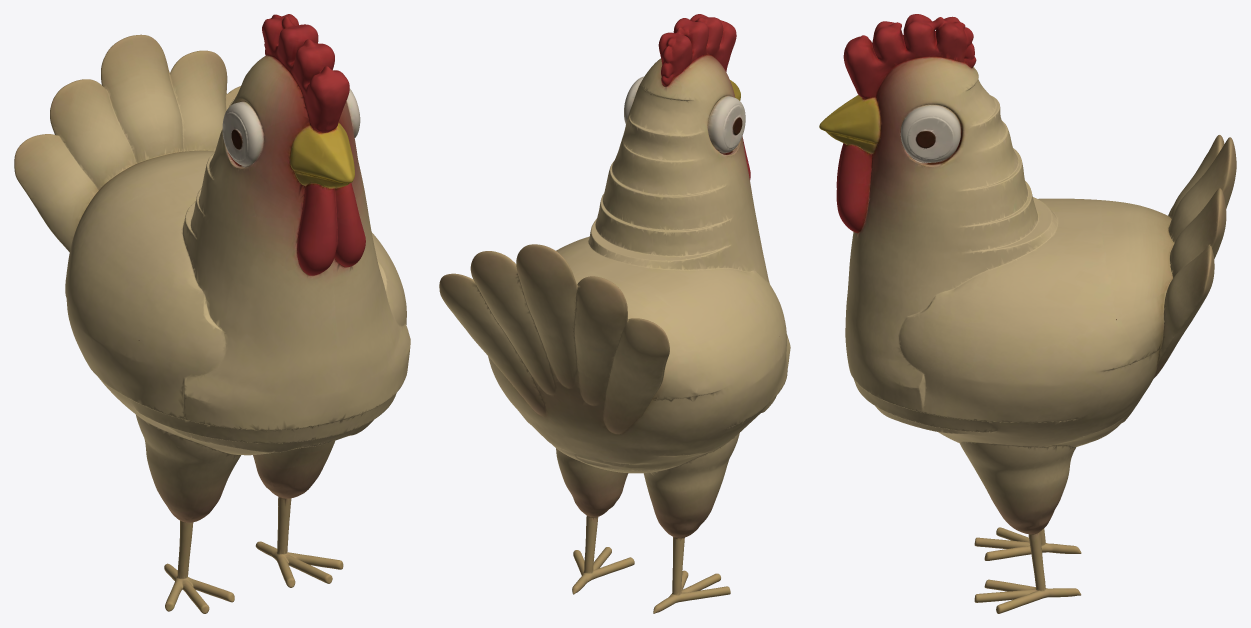
Rendered from robot.glb.
3 renders of one model, left to right at view 1: azimuth 30°, elevation 25°; view 2: azimuth 150°, elevation 25°; view 3: azimuth 270°, elevation 25°, orthographic. The views are drawn at different scales.
Visible parts, largest first — view 1: tripo_node_d2e86f12-4ee7-407c-85d1-b5db3bc058dd; view 2: tripo_node_d2e86f12-4ee7-407c-85d1-b5db3bc058dd; view 3: tripo_node_d2e86f12-4ee7-407c-85d1-b5db3bc058dd.
Boxes of the visible parts, <box> form: tripo_node_d2e86f12-4ee7-407c-85d1-b5db3bc058dd: <box>14,14,410,613</box>; tripo_node_d2e86f12-4ee7-407c-85d1-b5db3bc058dd: <box>439,14,790,613</box>; tripo_node_d2e86f12-4ee7-407c-85d1-b5db3bc058dd: <box>819,14,1236,613</box>.
Bounding box in the file's own units: 0.5025 × 1 × 0.6779.
Materials: 1 (1 with a texture image).
